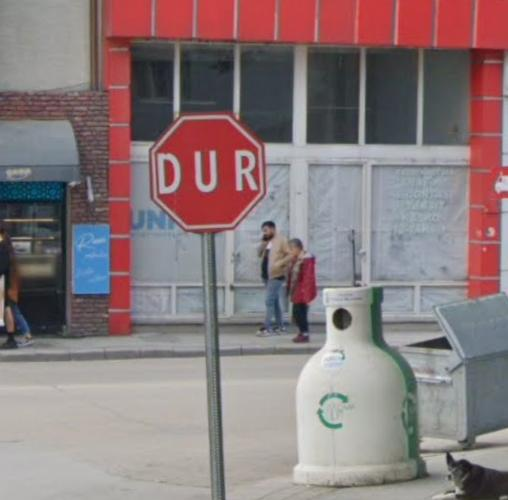stop: (154, 114, 264, 230)
